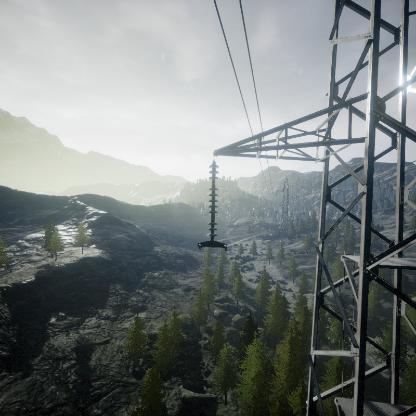insulator: (207, 161, 220, 240)
